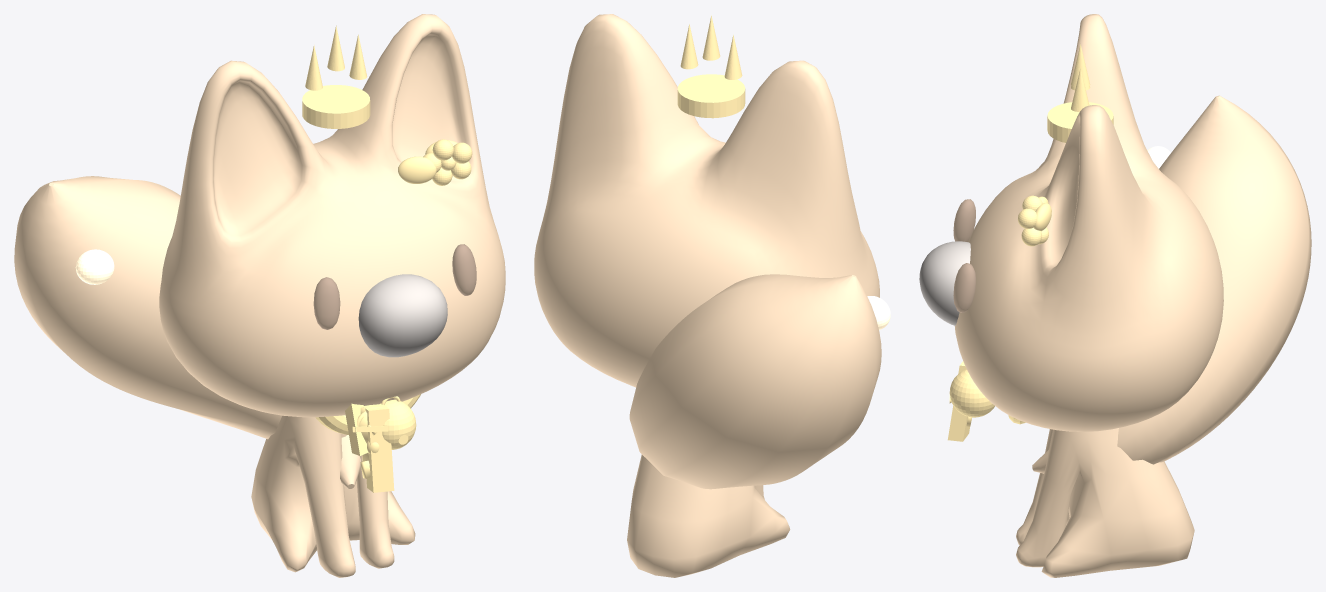
File: fox-base-v10-runtime.glb
3 views of the same model, side by side, from view 1: azimuth 30°, elevation 25°; view 2: azimuth 150°, elevation 25°; view 3: azimuth 270°, elevation 25° (orthographic). The views are drawn at different scales.
Visible parts, largest first — view 1: FoxBase_Head, FoxBase_Tail, FoxBase_Body, FoxBase_Muzzle, FoxBase_AccCrown, FoxBase_AccScarf, FoxBase_AccFlower, FoxBase_AccBell, FoxBase_EyeRight, FoxBase_TailTip, FoxBase_EyeLeft, FoxBase_AccBow; view 2: FoxBase_Head, FoxBase_Tail, FoxBase_Body, FoxBase_AccCrown, FoxBase_TailTip; view 3: FoxBase_Head, FoxBase_Tail, FoxBase_Body, FoxBase_Muzzle, FoxBase_AccCrown, FoxBase_AccBell, FoxBase_AccFlower, FoxBase_EyeLeft, FoxBase_EyeRight, FoxBase_AccScarf.
Boxes of the visible parts, x1,y1,x2,y2 form: FoxBase_Head: [159, 14, 505, 417]; FoxBase_Tail: [14, 176, 360, 488]; FoxBase_Body: [251, 415, 415, 577]; FoxBase_Muzzle: [358, 274, 447, 357]; FoxBase_AccCrown: [302, 25, 370, 128]; FoxBase_AccScarf: [315, 394, 420, 492]; FoxBase_AccFlower: [423, 139, 472, 185]; FoxBase_AccBell: [379, 396, 416, 449]; FoxBase_EyeRight: [313, 277, 340, 329]; FoxBase_TailTip: [75, 249, 114, 284]; FoxBase_EyeLeft: [452, 244, 476, 295]; FoxBase_AccBow: [398, 140, 457, 183]; FoxBase_Head: [534, 14, 879, 387]; FoxBase_Tail: [629, 274, 881, 489]; FoxBase_Body: [627, 454, 790, 577]; FoxBase_AccCrown: [677, 15, 745, 118]; FoxBase_TailTip: [867, 296, 890, 330]; FoxBase_Head: [954, 14, 1223, 431]; FoxBase_Tail: [1032, 95, 1311, 473]; FoxBase_Body: [1016, 428, 1194, 577]; FoxBase_Muzzle: [919, 241, 970, 325]; FoxBase_AccCrown: [1047, 44, 1113, 142]; FoxBase_AccBell: [949, 369, 994, 417]; FoxBase_AccFlower: [1018, 195, 1048, 246]; FoxBase_EyeLeft: [953, 263, 975, 312]; FoxBase_EyeRight: [953, 199, 975, 241]; FoxBase_AccScarf: [947, 361, 1025, 441].
Bounding box in the file's own units: 0.0997 × 0.1275 × 0.0883.
